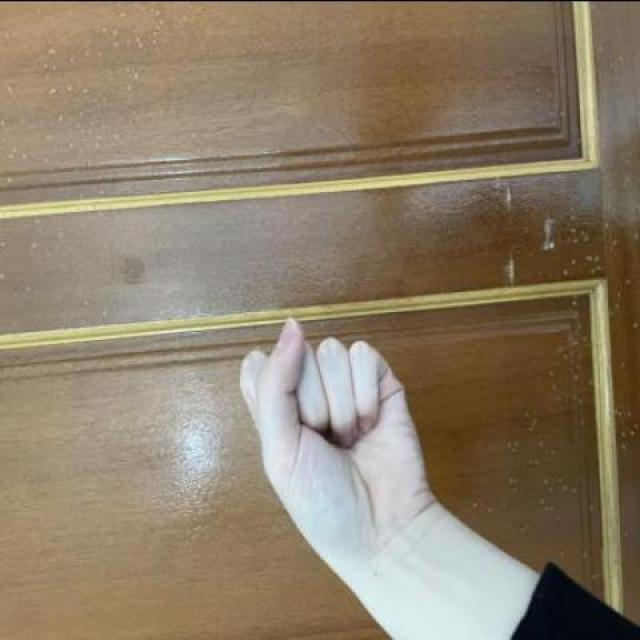fist: (233, 311, 438, 577)
